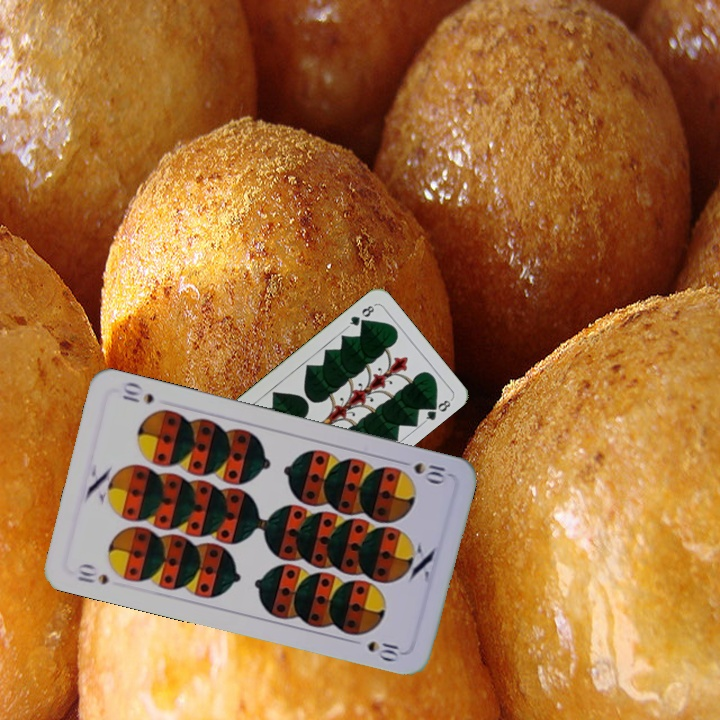G8: (343, 301, 378, 330)
S10: (394, 456, 452, 486), (73, 560, 111, 588)
